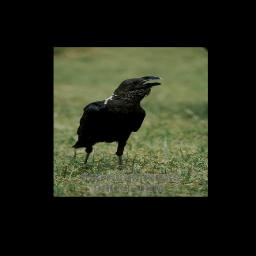Crow: (69, 73, 166, 173)
